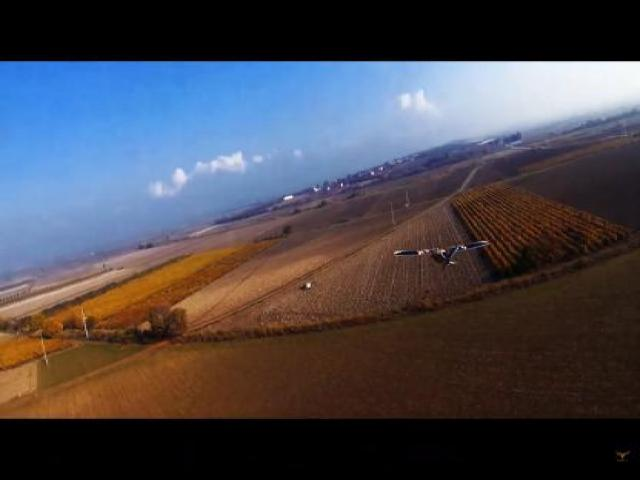uav: (392, 238, 492, 267)
